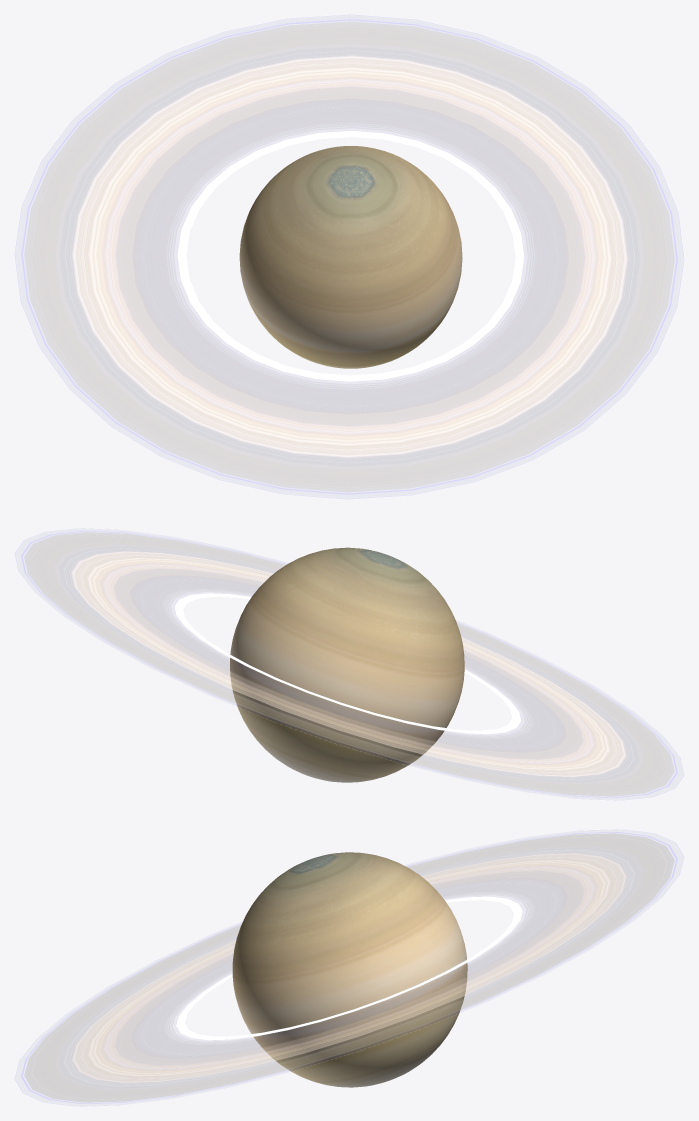
File: saturn.glb
3 renders of one model, top to bottom at view 1: azimuth 30°, elevation 25°; view 2: azimuth 150°, elevation 25°; view 3: azimuth 270°, elevation 25°, orthographic. The views are drawn at different scales.
Visible parts, largest first — view 1: Sphere.008; view 2: Sphere.008; view 3: Sphere.008.
Boxes of the visible parts, <box> form: Sphere.008: <box>14,14,684,499</box>; Sphere.008: <box>14,528,684,800</box>; Sphere.008: <box>14,829,684,1106</box>.
Size of the model in its own units: 78.98 by 29.38 by 76.38.
Materials: 2 (2 with a texture image).
